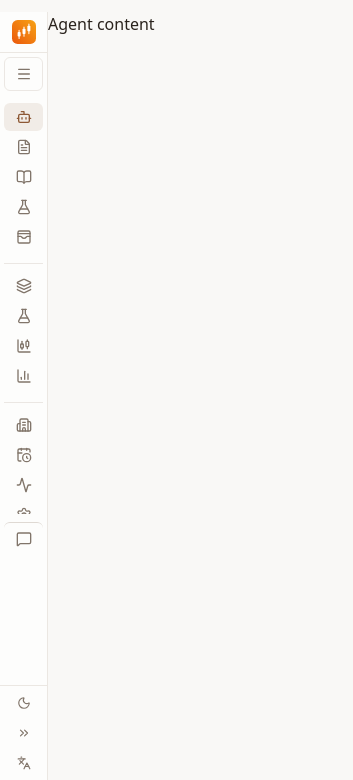
Test: Layout accessibility › keeps history, new chat and language reachable with a collapsed sidebar
The image size is (353, 780).
Later steps or results of the test are not shown.
Expected: the button named "Language" is shown, [10,750,36,776]
Click the button named "Sessions" at (24,538), box [4,522,43,555]
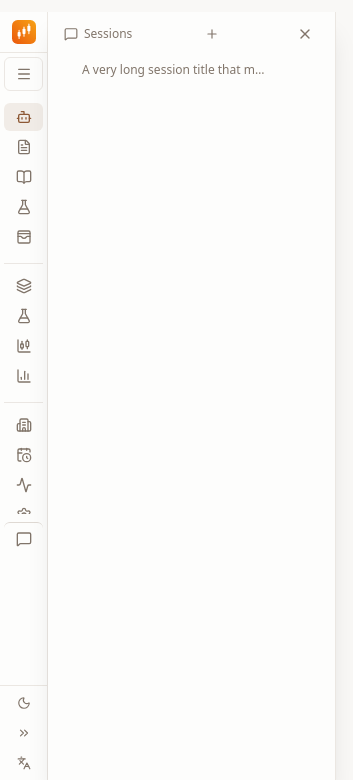
Result: the text "A very long session title that must truncate" is shown at [82,62,271,78]
Result: the link named "New Chat" is shown at [205,27,219,41]
